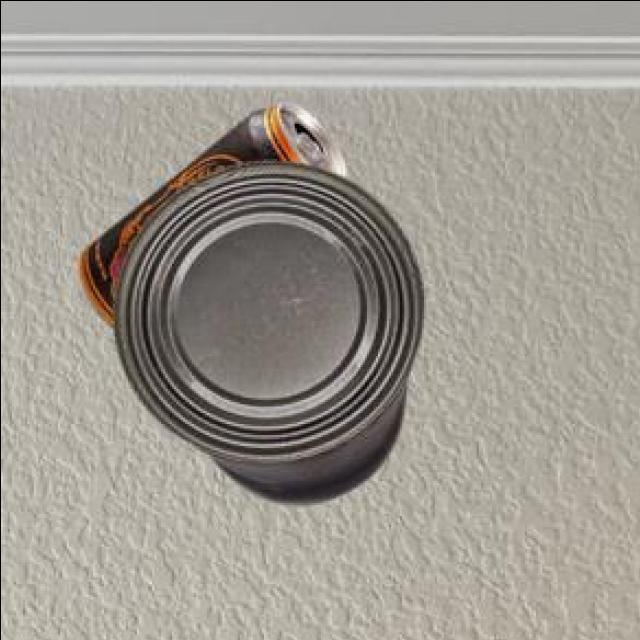logam: (115, 163, 426, 507), (82, 104, 347, 332)
